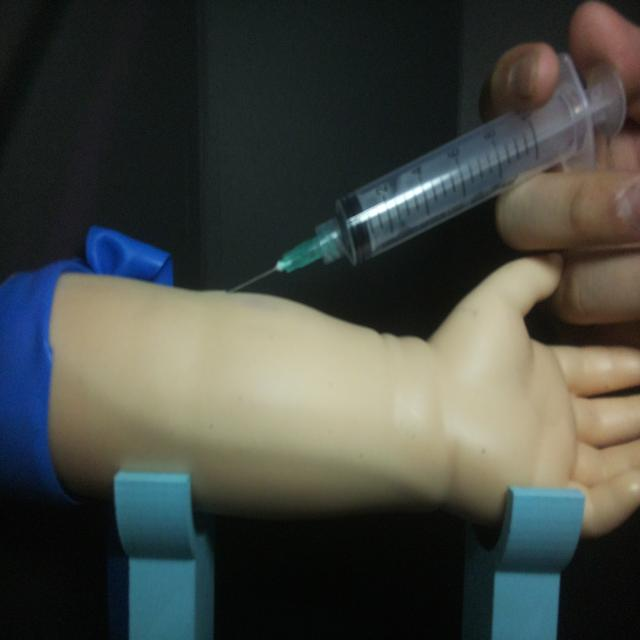21deg: (220, 48, 628, 297)
